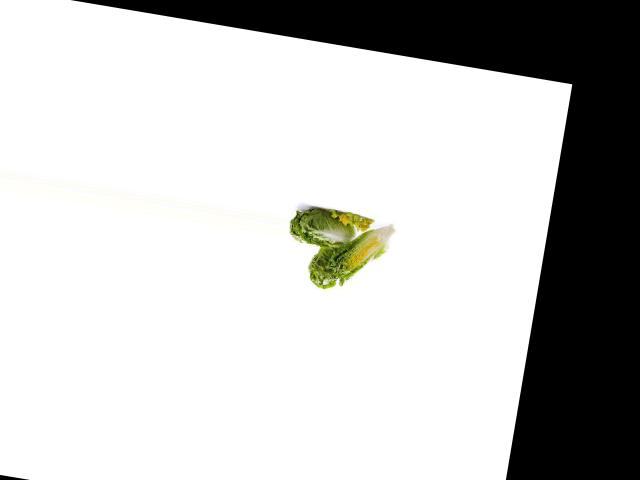lettuce: (288, 200, 366, 255)
